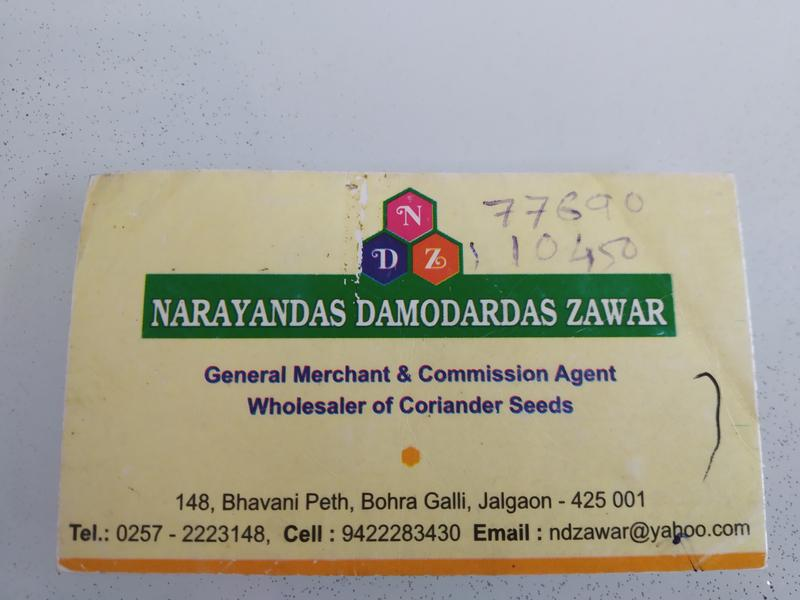card: (55, 170, 767, 577)
